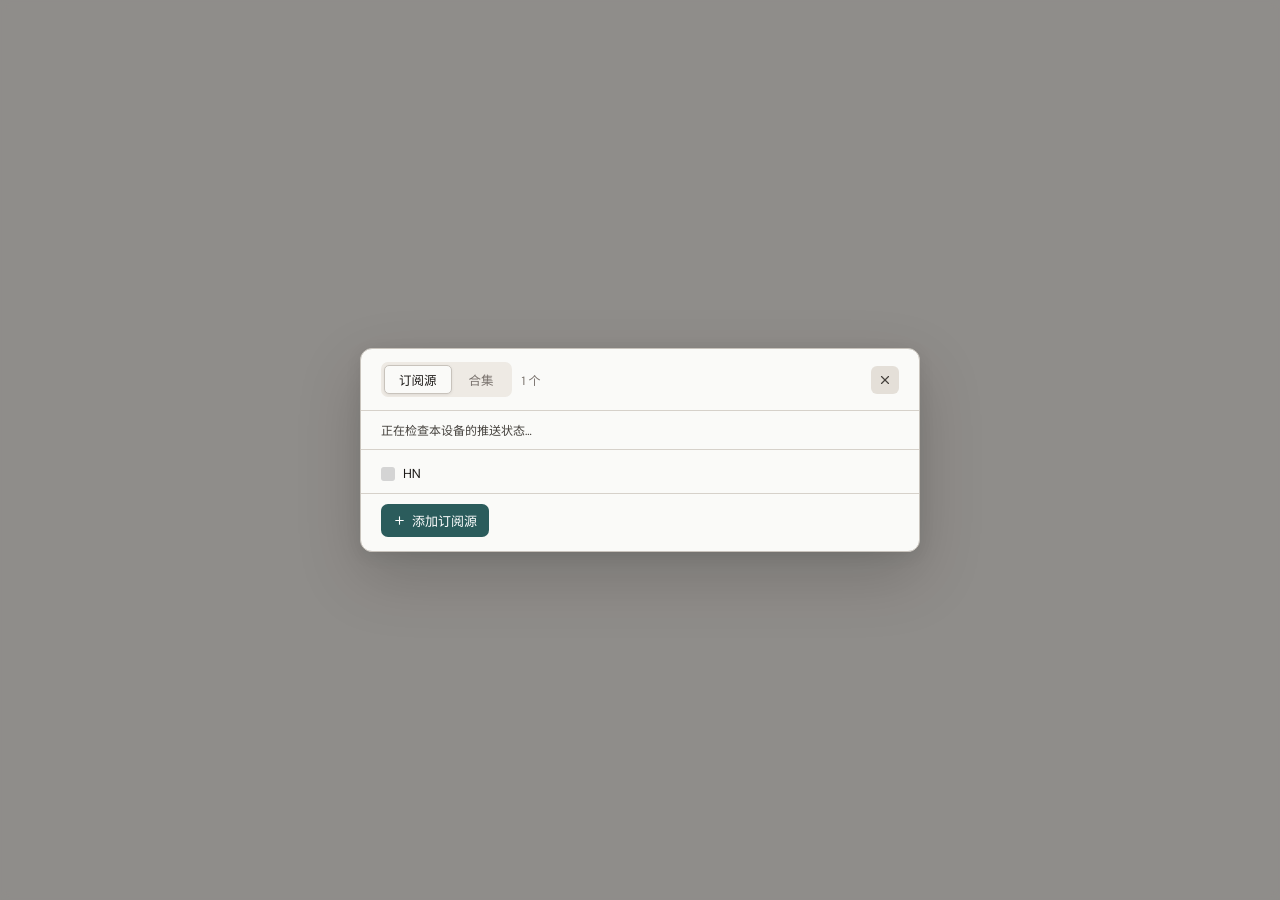
ManageModal sub-views › Escape unwinds a sub-view reached from the list, not the modal
Click the button "添加订阅源". click: (435, 520)
box: [381,504,489,537]
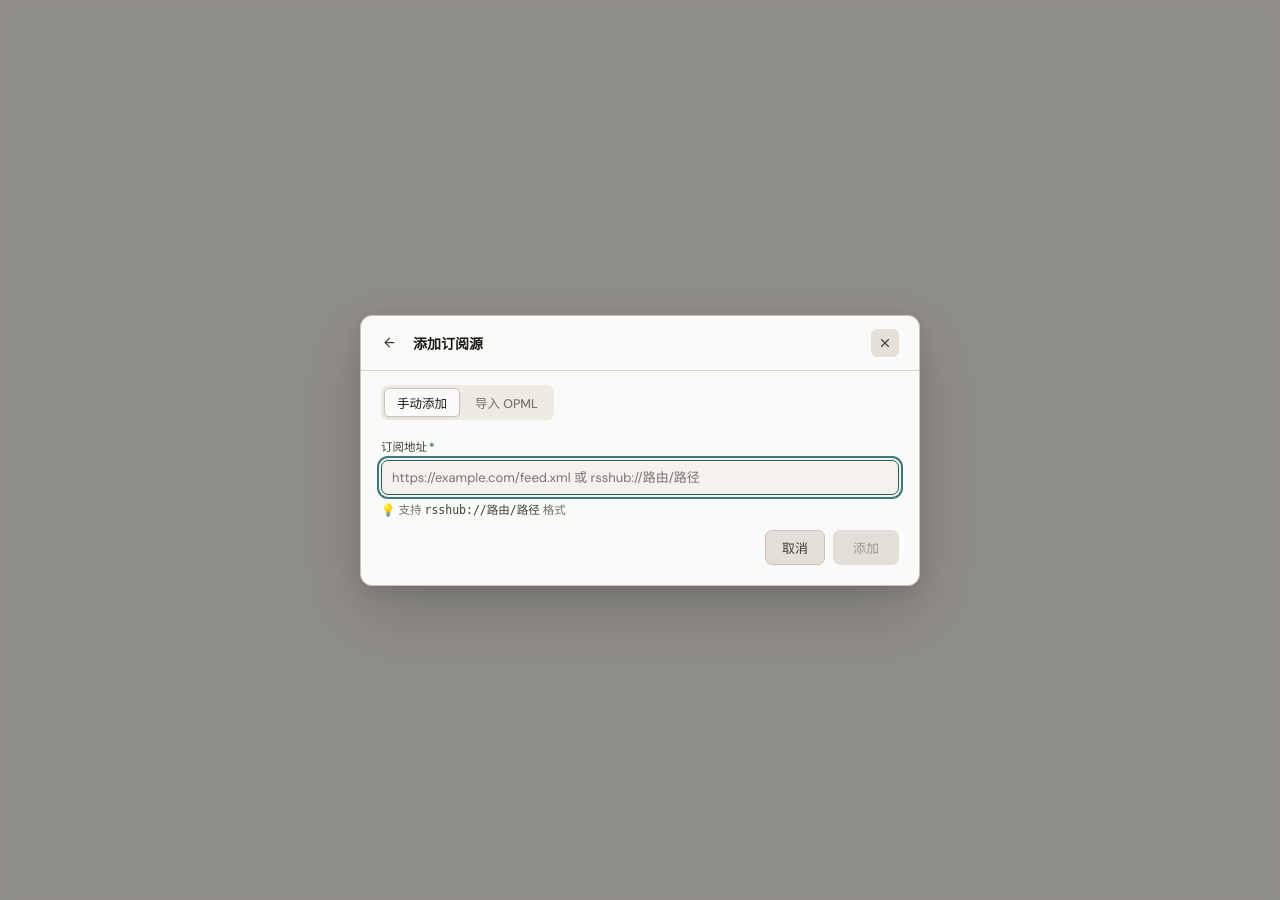
Press Escape
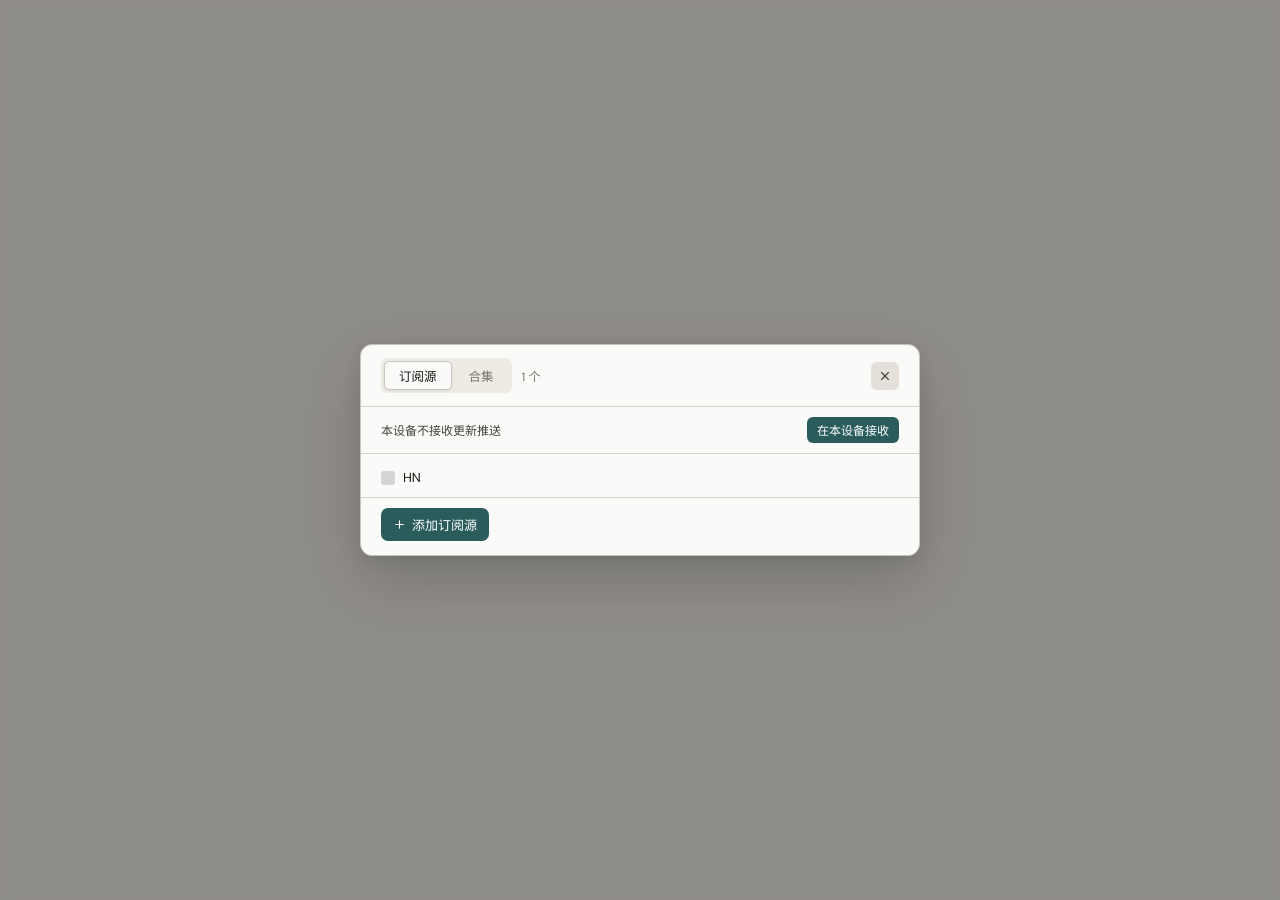
Expected: the button "合集" is shown, [454,361,508,390]
